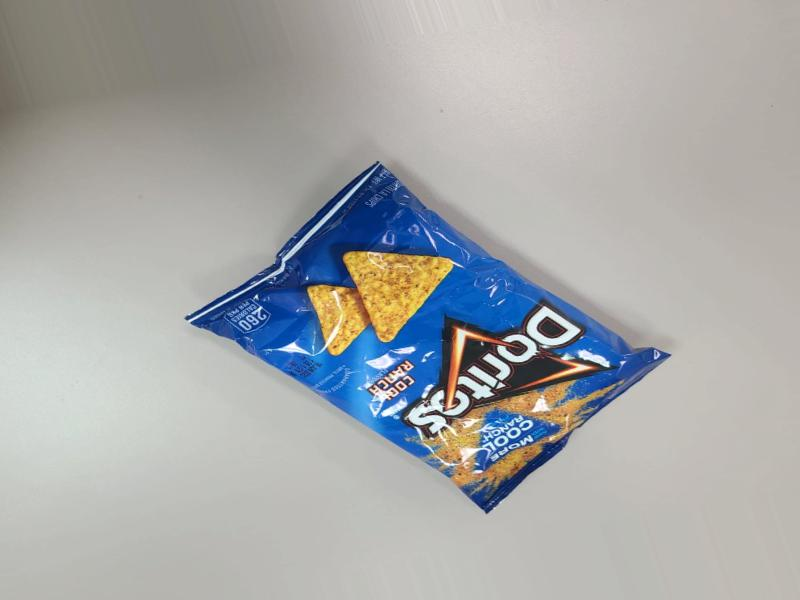doritos: (271, 271, 737, 528)
